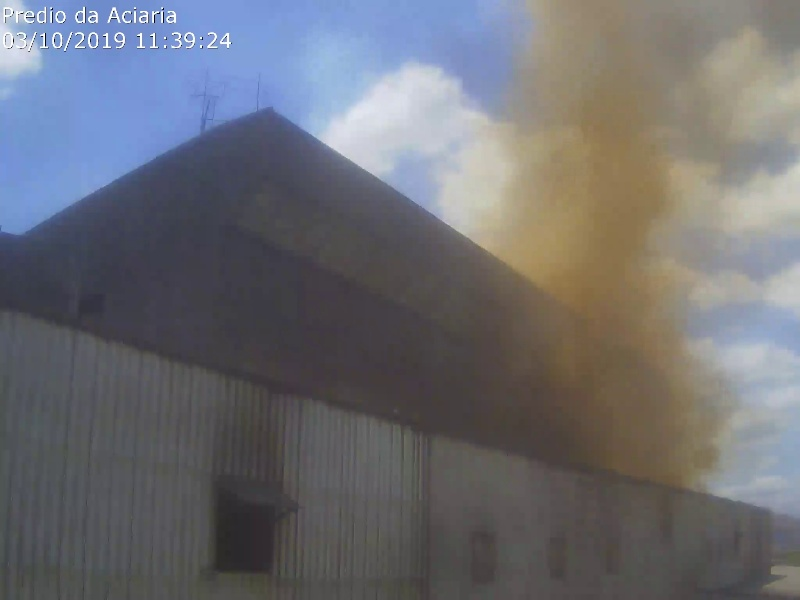bom: (250, 30, 453, 301), (3, 11, 266, 186)
pessimo: (492, 1, 779, 503)
